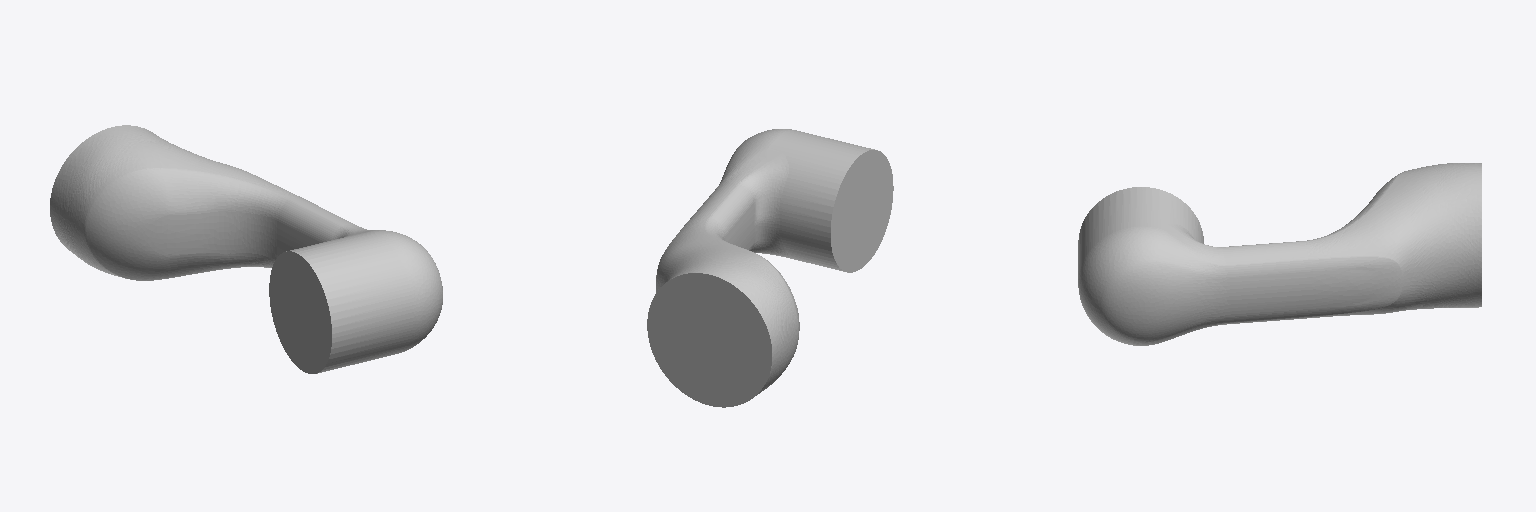
3 renders of one model, left to right at view 1: azimuth 30°, elevation 25°; view 2: azimuth 150°, elevation 25°; view 3: azimuth 270°, elevation 25°, orthographic.
Visible parts, largest first — view 1: link5_2; view 2: link5_2; view 3: link5_2.
Boxes of the visible parts, x1=… form: link5_2: x1=50, y1=125, x2=442, y2=373; link5_2: x1=647, y1=129, x2=893, y2=407; link5_2: x1=1078, y1=163, x2=1481, y2=345.
Bounding box in the file's own units: 0.1849 × 0.11 × 0.3069.